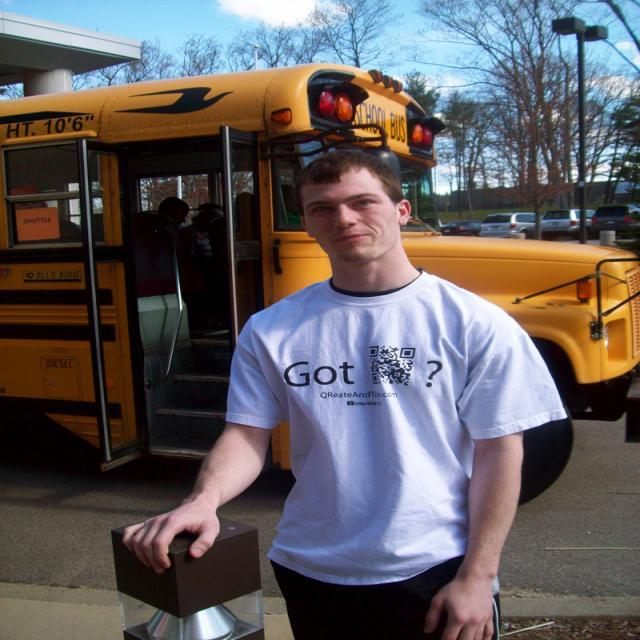qr-code: (368, 346, 416, 385)
